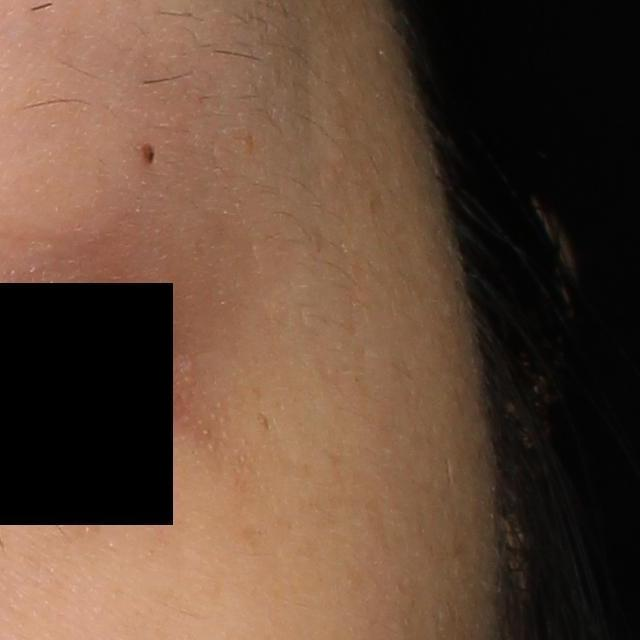melasma: (254, 410, 272, 434)
nevus: (139, 141, 158, 165)
